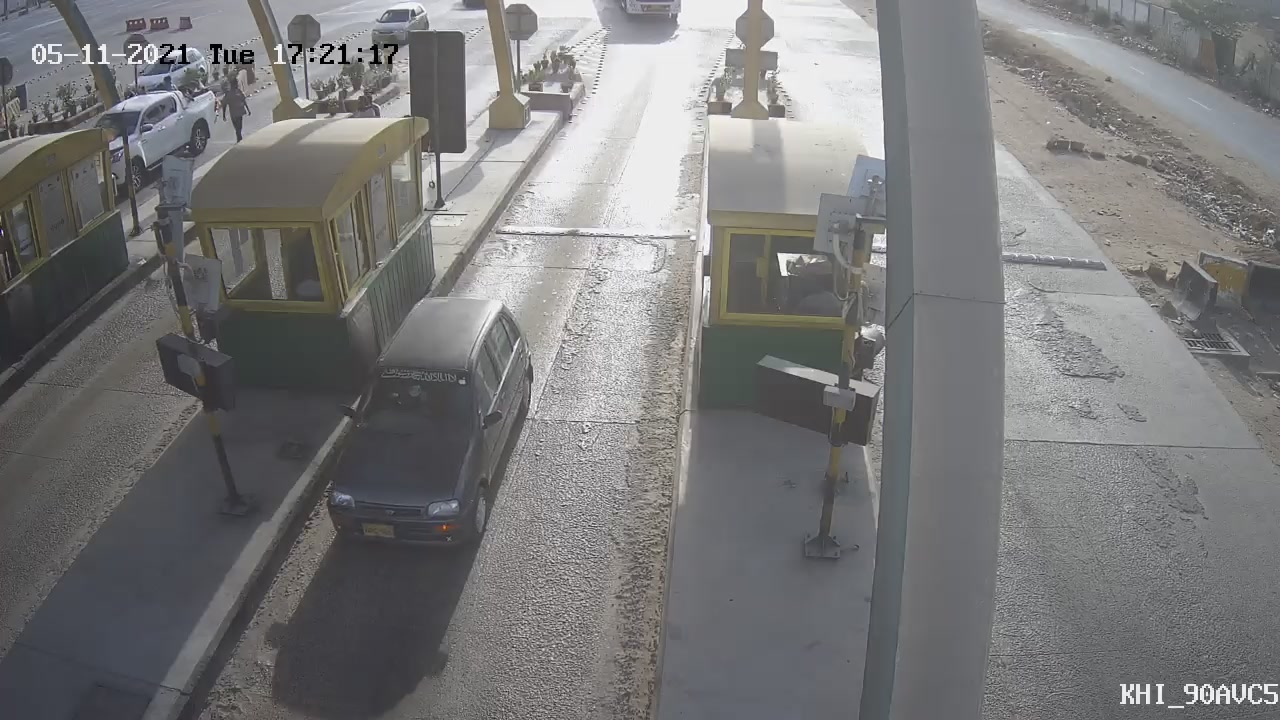F1: (307, 281, 553, 570)
